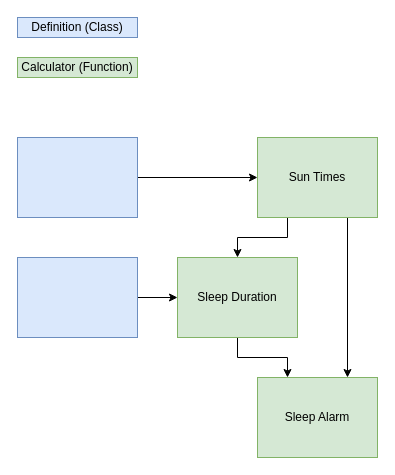
The diagram is 395 pixels wide and 475 high, and some of its shapes have lost their labels. The centre of each missing label's shape, as x and y in pixels:
Location: pixel 77 177
Requirements: pixel 77 297
